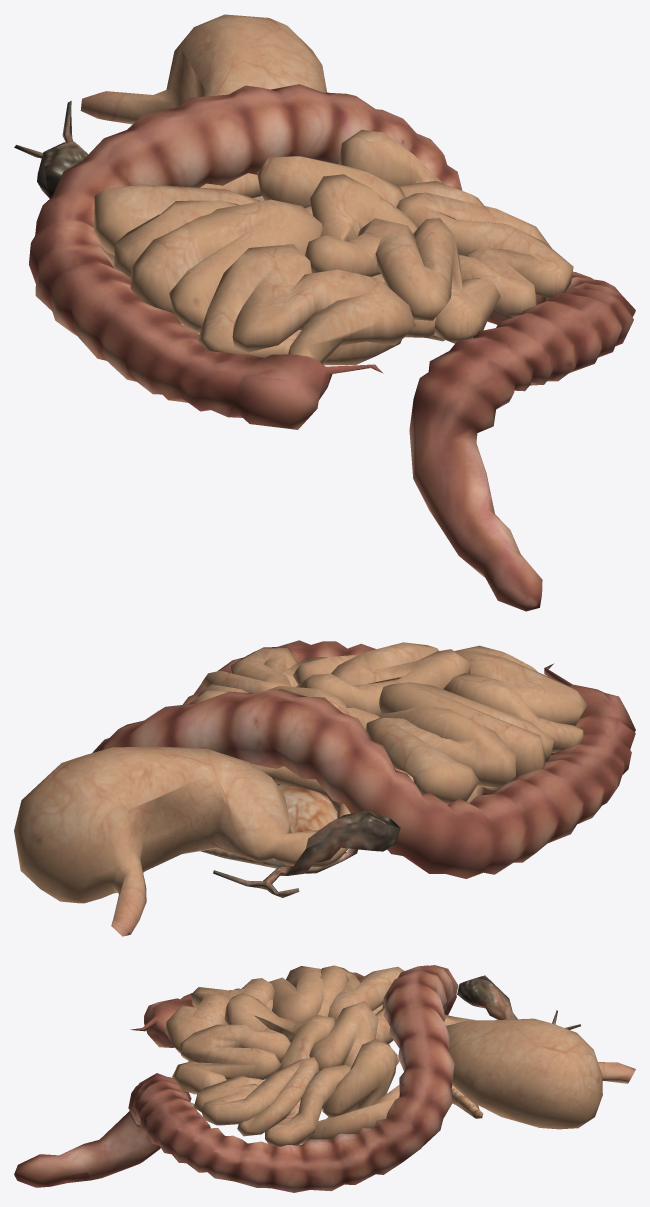
3 views of the same model, one above another, from view 1: azimuth 30°, elevation 25°; view 2: azimuth 150°, elevation 25°; view 3: azimuth 270°, elevation 25° (orthographic). The views are drawn at different scales.
Parts seen in each view (by area): view 1: DigestiveSystem.008, DigestiveSystem.014, DigestiveSystem.001; view 2: DigestiveSystem.008, DigestiveSystem.014, DigestiveSystem.001; view 3: DigestiveSystem.008, DigestiveSystem.014, DigestiveSystem.001.
Part boxes in pixels (box(x1,y1,x2,y2)): DigestiveSystem.008: box(29, 84, 635, 611); DigestiveSystem.014: box(80, 14, 327, 124); DigestiveSystem.001: box(14, 100, 88, 198); DigestiveSystem.008: box(92, 640, 635, 878); DigestiveSystem.014: box(14, 746, 350, 936); DigestiveSystem.001: box(213, 810, 400, 897); DigestiveSystem.008: box(14, 965, 483, 1192); DigestiveSystem.014: box(444, 1014, 635, 1129); DigestiveSystem.001: box(457, 975, 580, 1029).
Size of the model in its own units: 22.32 by 13.66 by 37.84.
Materials: 1 (1 with a texture image).
